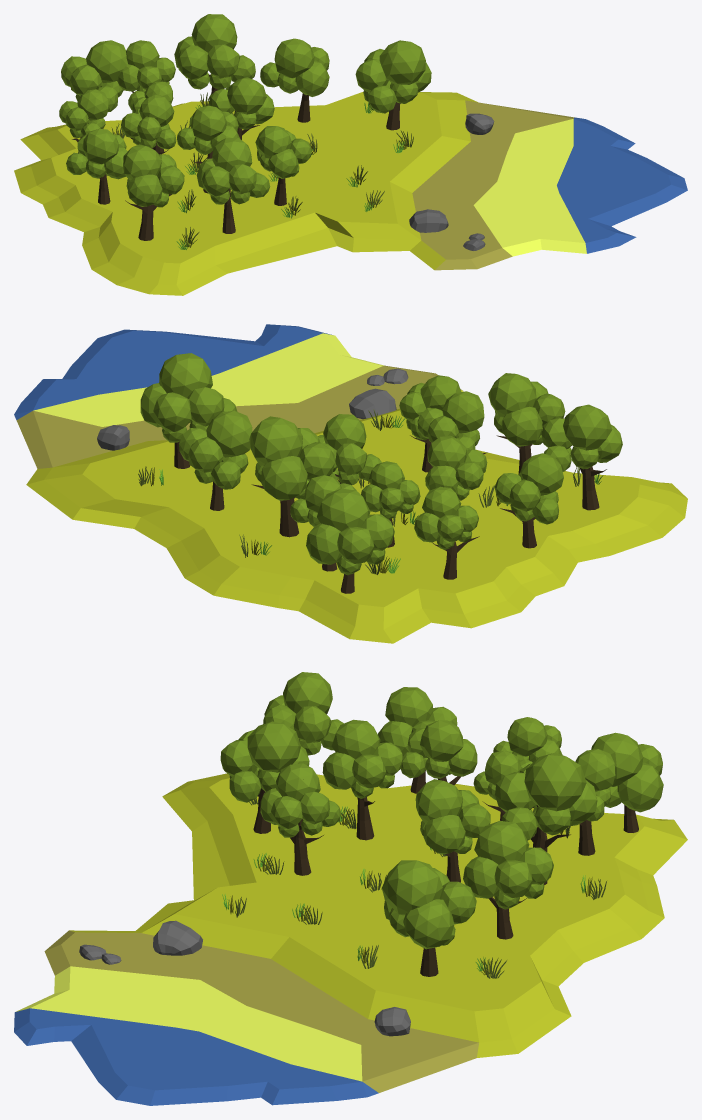
File: ambienteDeTortuga.fbx
3 views of the same model, one above another, from view 1: azimuth 30°, elevation 25°; view 2: azimuth 150°, elevation 25°; view 3: azimuth 270°, elevation 25° (orthographic). The views are drawn at different scales.
Parts seen in each view (by area): view 1: Plane.001, hojas4.067, hojas4.088, hojas4.080, hojas4.086, hojas4.079, hojas4.072, hojas4.063, hojas4.081, hojas4.049, hojas4.053, hojas4.071 (+6 smaller); view 2: Plane.001, hojas4.072, hojas4.088, hojas4.067, hojas4.086, hojas4.079, hojas4.080, hojas4.063, hojas4.073, hojas4.049, hojas4.081, hojas4.062 (+7 smaller); view 3: Plane.001, hojas4.067, hojas4.088, hojas4.086, hojas4.080, hojas4.062, hojas4.081, hojas4.053, hojas4.079, hojas4.072, hojas4.049, hojas4.063 (+6 smaller).
Boxes of the visible parts, x1,y1,x2,y2 form: Plane.001: (14, 92, 687, 295); hojas4.067: (174, 14, 255, 89); hojas4.088: (355, 40, 431, 113); hojas4.080: (196, 137, 270, 204); hojas4.086: (260, 38, 329, 96); hojas4.079: (123, 144, 184, 207); hojas4.072: (61, 40, 127, 111); hojas4.063: (66, 128, 127, 179); hojas4.081: (209, 77, 274, 129); hojas4.049: (121, 94, 176, 149); hojas4.053: (255, 126, 311, 178); hojas4.071: (117, 40, 175, 92); Plane.001: (14, 324, 687, 643); hojas4.072: (306, 488, 394, 575); hojas4.088: (140, 353, 237, 442); hojas4.067: (249, 416, 334, 500); hojas4.086: (179, 410, 252, 489); hojas4.079: (541, 404, 622, 471); hojas4.080: (488, 373, 565, 446); hojas4.063: (494, 453, 563, 524); hojas4.073: (414, 486, 478, 549); hojas4.049: (425, 435, 487, 500); hojas4.081: (318, 414, 381, 485); hojas4.062: (417, 391, 484, 450); Plane.001: (14, 773, 687, 1105); hojas4.067: (495, 753, 597, 840); hojas4.088: (382, 860, 476, 949); hojas4.086: (463, 820, 553, 909); hojas4.080: (220, 721, 309, 802); hojas4.062: (322, 719, 403, 798); hojas4.081: (415, 779, 490, 854); hojas4.053: (260, 763, 341, 837); hojas4.079: (263, 672, 343, 755); hojas4.072: (591, 732, 663, 812); hojas4.049: (401, 720, 477, 778); hojas4.063: (378, 687, 457, 755).
Size of the model in its own units: 111 by 25.76 by 94.04.
